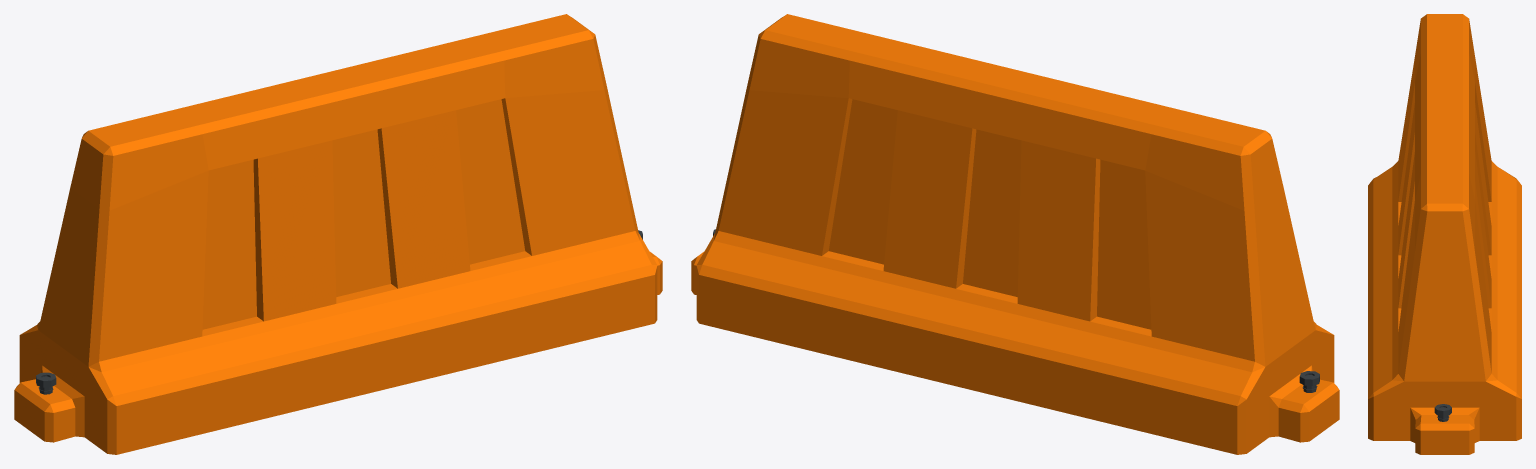
The model's file is SM_FloorProps_03.fbx.
3 renders of one model, left to right at view 1: azimuth 30°, elevation 25°; view 2: azimuth 150°, elevation 25°; view 3: azimuth 270°, elevation 25°, orthographic. The views are drawn at different scales.
Parts seen in each view (by area): view 1: SM_FloorProps_03; view 2: SM_FloorProps_03; view 3: SM_FloorProps_03.
Boxes of the visible parts, left/top/right/bottom form: SM_FloorProps_03: left=14, top=14, right=662, bottom=454; SM_FloorProps_03: left=691, top=14, right=1339, bottom=454; SM_FloorProps_03: left=1368, top=14, right=1521, bottom=454.
Bounding box in the file's own units: 1.57 × 0.669 × 0.4172.
